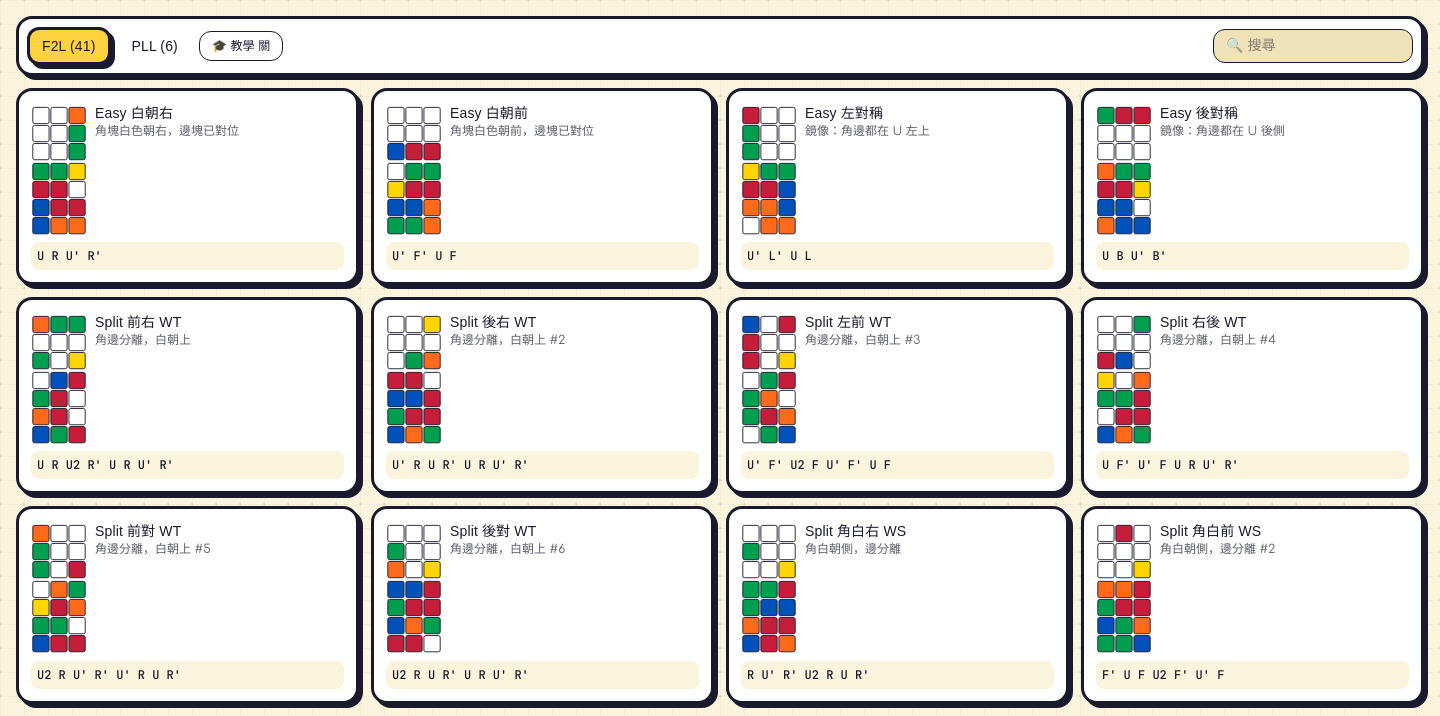
Test: CasesTab (RD2-X6) › teaching mode toggle (v6) › clicking toggle switches state + label
Click the button with test id "teach-mode-toggle" at (241, 46), box x1=199 y1=31 x2=283 y2=61
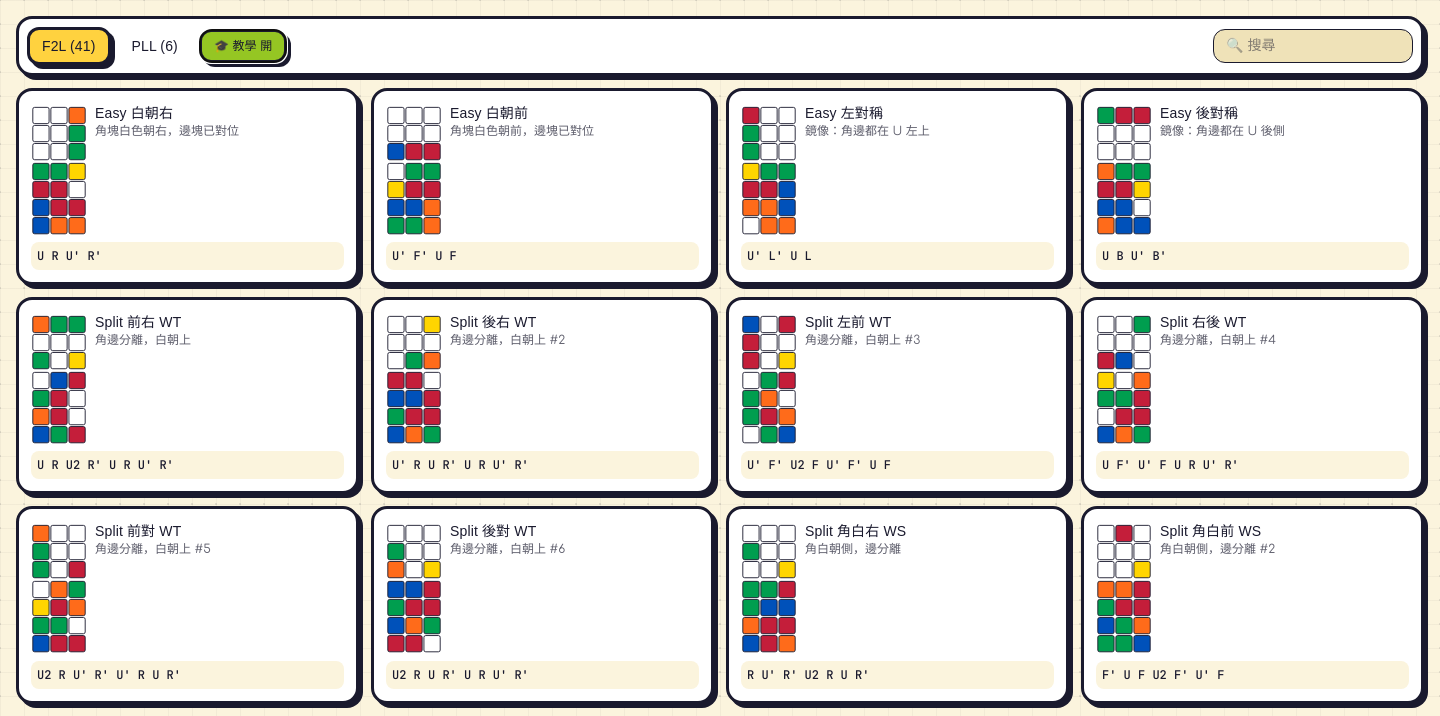
Result: the button with test id "teach-mode-toggle" shows "開" at x1=199 y1=29 x2=287 y2=63
